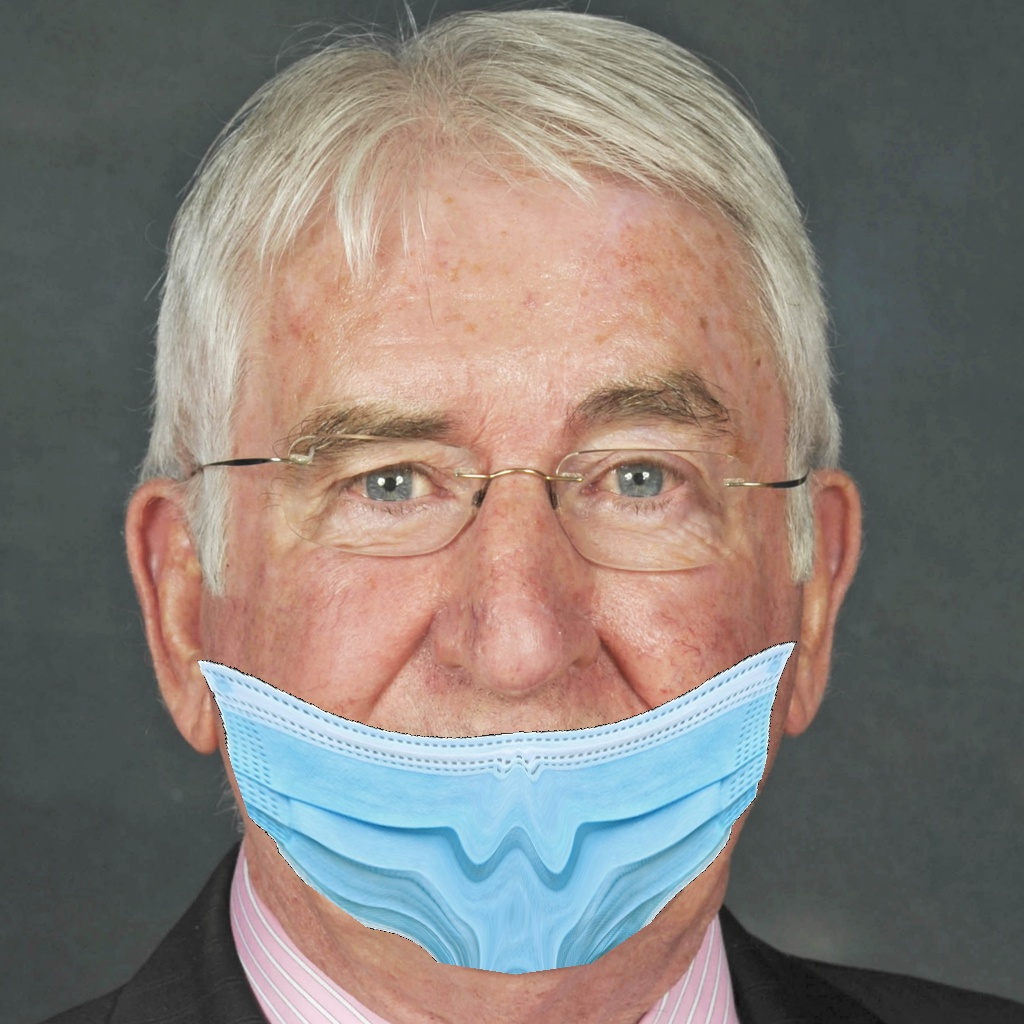mascarilla_mal_puesta: (139, 533, 849, 998)
